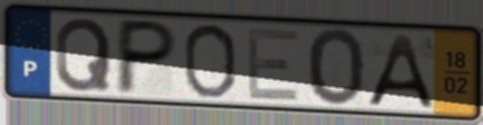A: (363, 32, 437, 110)
E: (244, 26, 302, 104)
O: (304, 25, 368, 109), (181, 21, 239, 101)
P: (111, 16, 181, 97)
Q: (52, 15, 114, 94)
